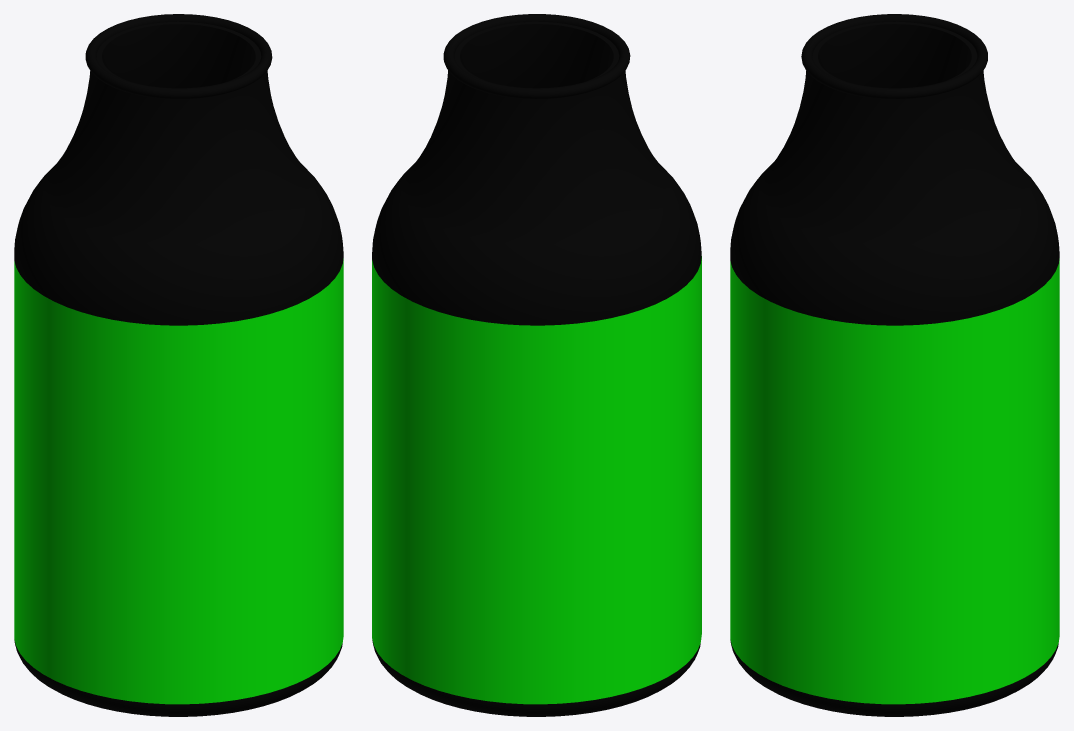
The model's file is bottle1.fbx.
The picture shows the model from 3 angles, left to right: view 1: azimuth 30°, elevation 25°; view 2: azimuth 150°, elevation 25°; view 3: azimuth 270°, elevation 25°; orthographic projection.
Parts seen in each view (by area): view 1: color, clear thick glass; view 2: color, clear thick glass; view 3: color, clear thick glass.
Part boxes in pixels (x1=…): color: x1=14, y1=258, x2=343, y2=704; clear thick glass: x1=14, y1=14, x2=343, y2=716; color: x1=372, y1=256, x2=701, y2=704; clear thick glass: x1=372, y1=14, x2=701, y2=716; color: x1=730, y1=258, x2=1059, y2=704; clear thick glass: x1=730, y1=14, x2=1059, y2=716.
Bounding box in the file's own units: 3 × 6.05 × 3.
